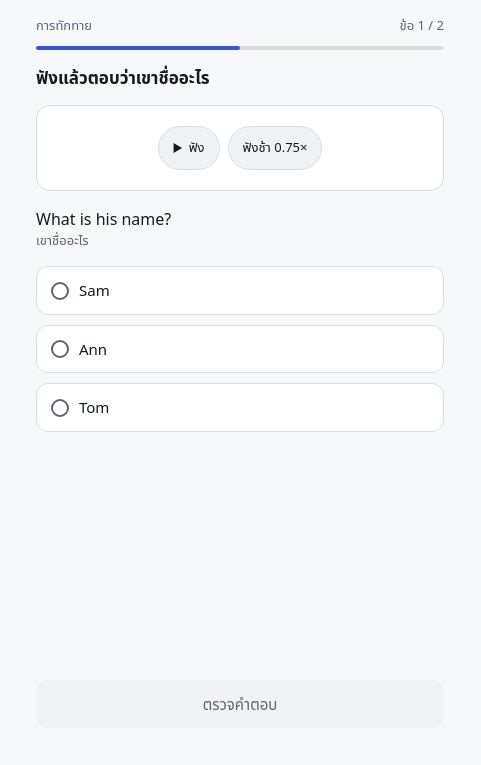
it: LessonPlayer › moves focus to the step heading and scrolls to the top on every step change
The width and height of the screenshot is (481, 765).
Click the radio button labelled "Sam": (94, 290) [36,266,444,315]
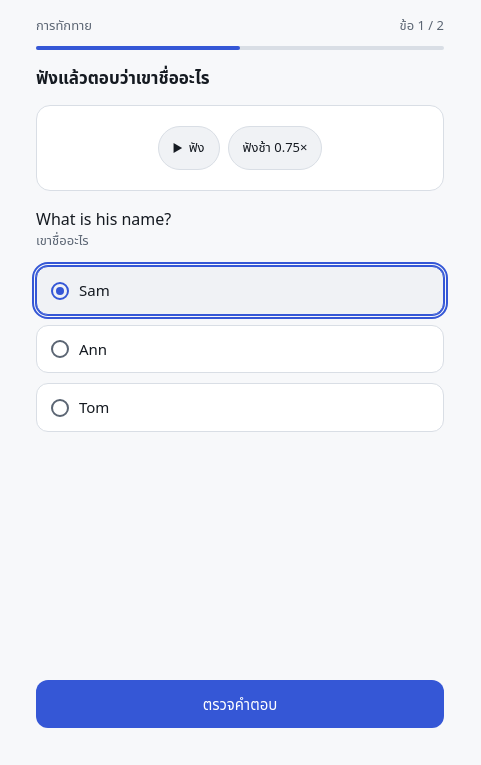
Click the button "ตรวจคำตอบ": (240, 704) [36,680,444,728]
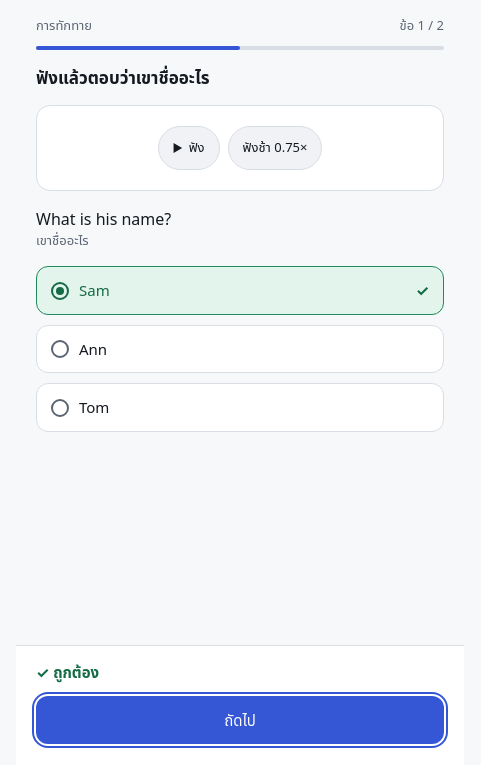
Click the button "ถัดไป": (240, 720) [36,696,444,744]
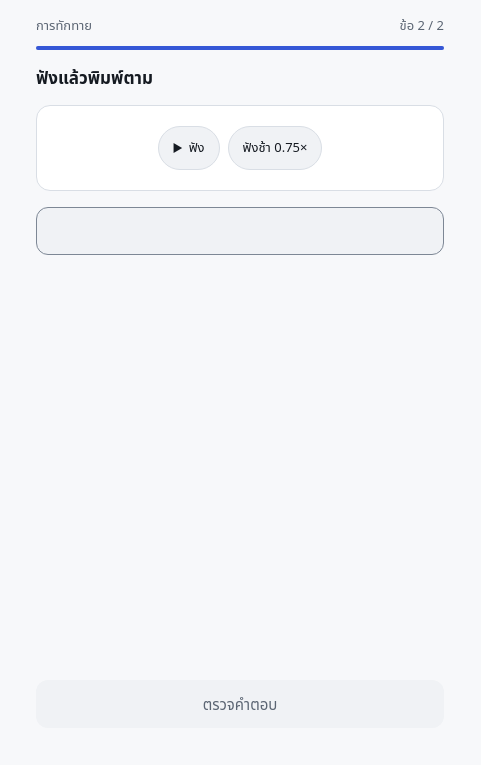
Check: the heading "การทักทาย ข้อ 2 / 2" is shown, box [36,16,444,36]
